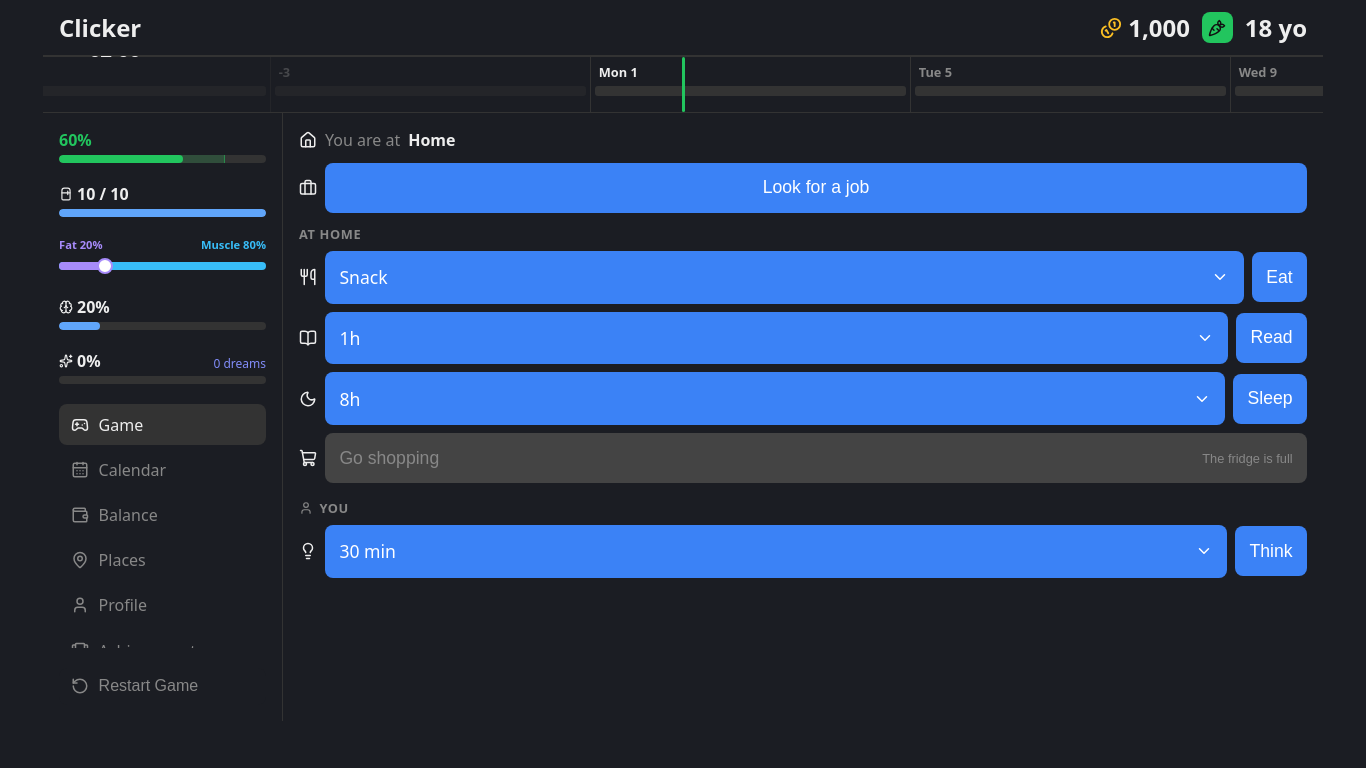
Test: the places page lists the places and opens one with its banner
What coordinates should you click on to do the following:
click the link "Places"
I would click on:
 (108, 560)
Its box is [71,549,146,571].
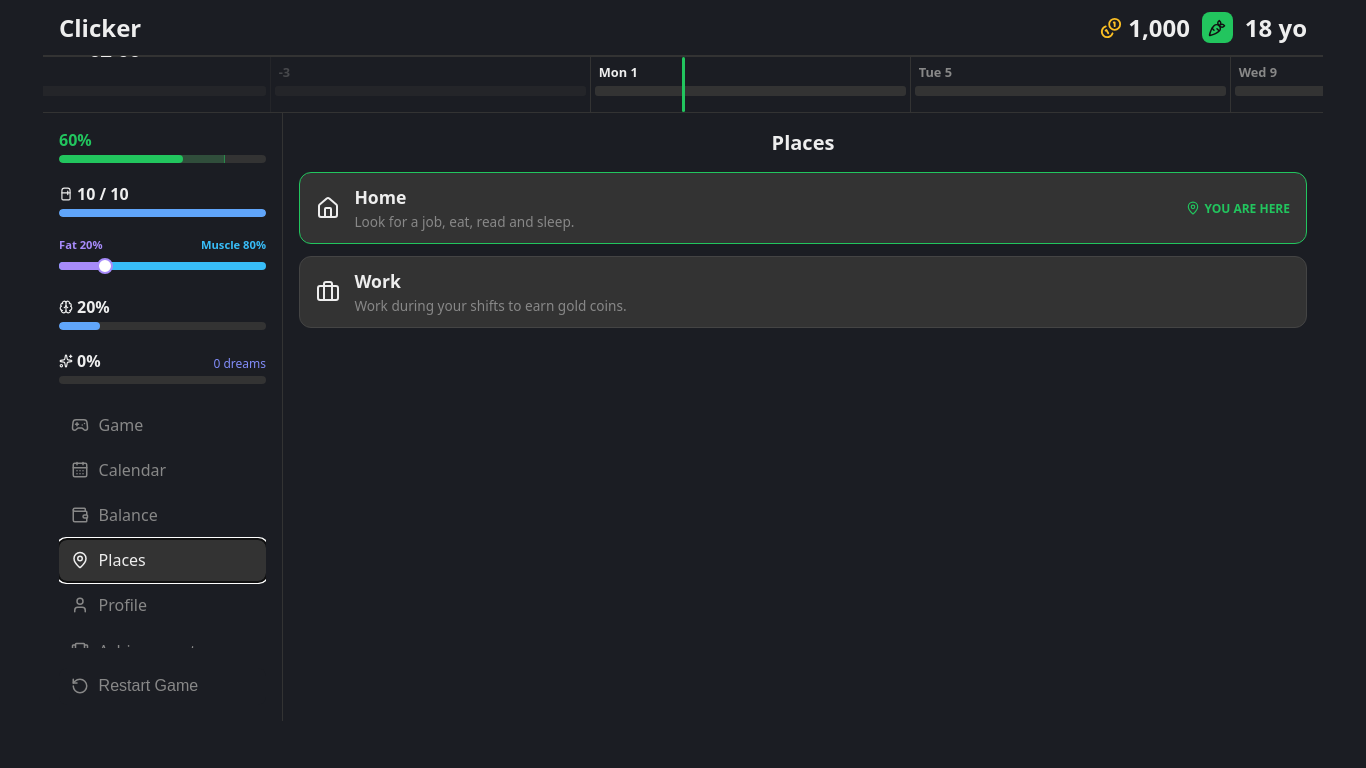
What coordinates should you click on to do the following:
click the link "Work Work during your shifts to earn gold coins."
I would click on:
 (378, 281)
Its box is [299,256,1307,328].
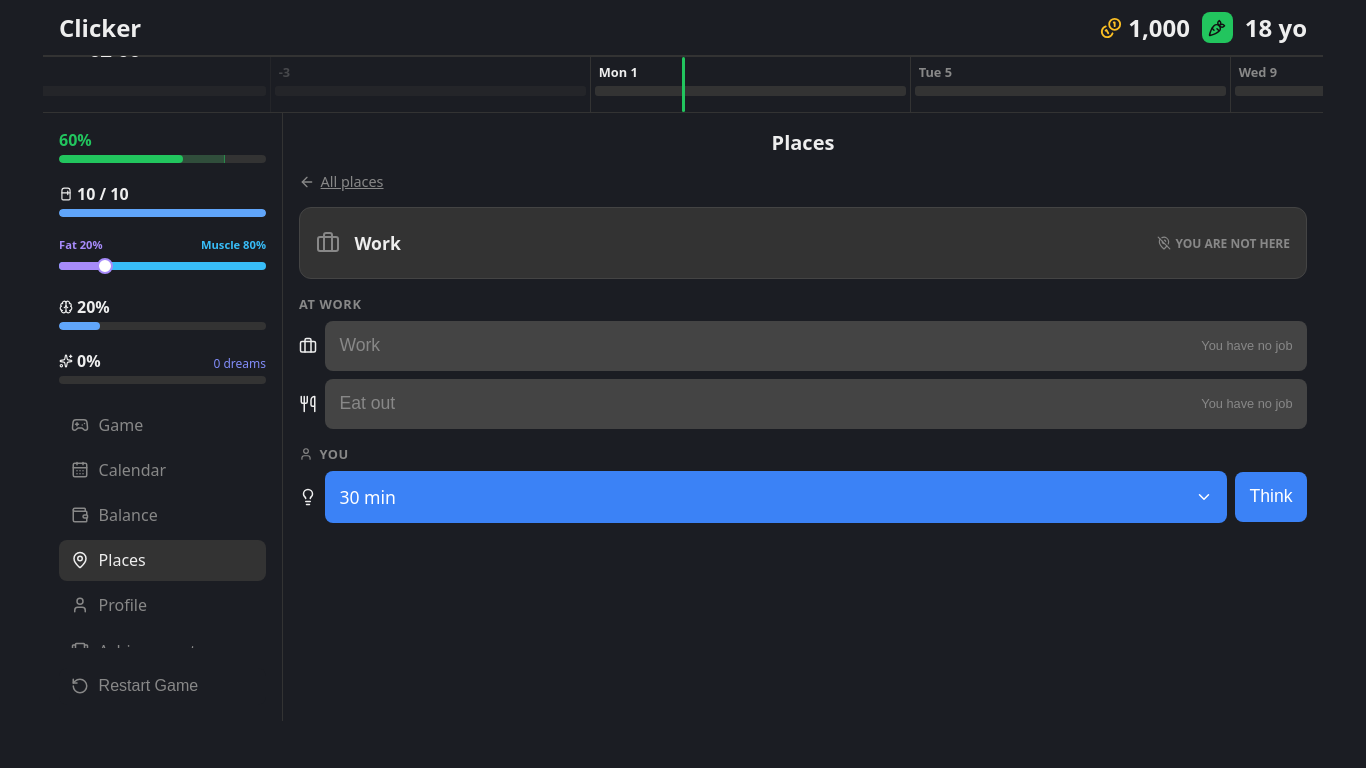
Expected: the heading "Work" is shown, [354,231,401,255]
Expected: the text "You are not here" is shown, [1157,234,1290,252]
